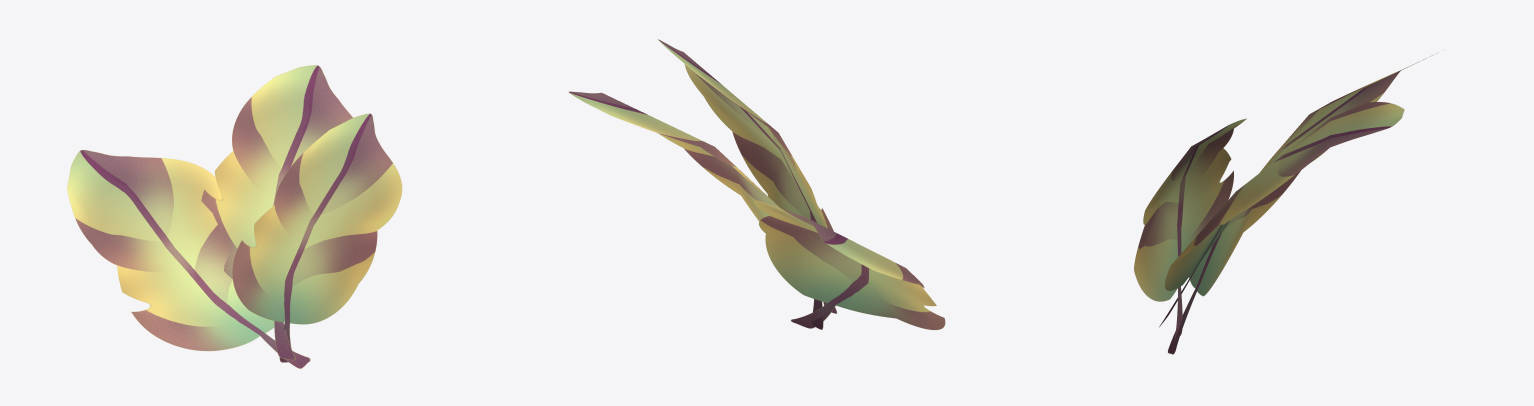
3 renders of one model, left to right at view 1: azimuth 30°, elevation 25°; view 2: azimuth 150°, elevation 25°; view 3: azimuth 270°, elevation 25°, orthographic. The views are drawn at different scales.
Visible parts, largest first — view 1: pasted__pPlane1 (×2), pPlane1; view 2: pPlane1, pasted__pPlane1 (×2); view 3: pasted__pPlane1 (×2), pPlane1.
Part boxes in pixels (x1=…): pasted__pPlane1 (×2): x1=201, y1=65, x2=402, y2=362; pPlane1: x1=67, y1=150, x2=310, y2=368; pPlane1: x1=753, y1=200, x2=945, y2=329; pasted__pPlane1 (×2): x1=568, y1=39, x2=836, y2=329; pasted__pPlane1 (×2): x1=1134, y1=102, x2=1404, y2=339; pPlane1: x1=1168, y1=49, x2=1444, y2=354.
Bounding box in the file's own units: 1.67 × 1.08 × 1.21.
Materials: 1 (1 with a texture image).
